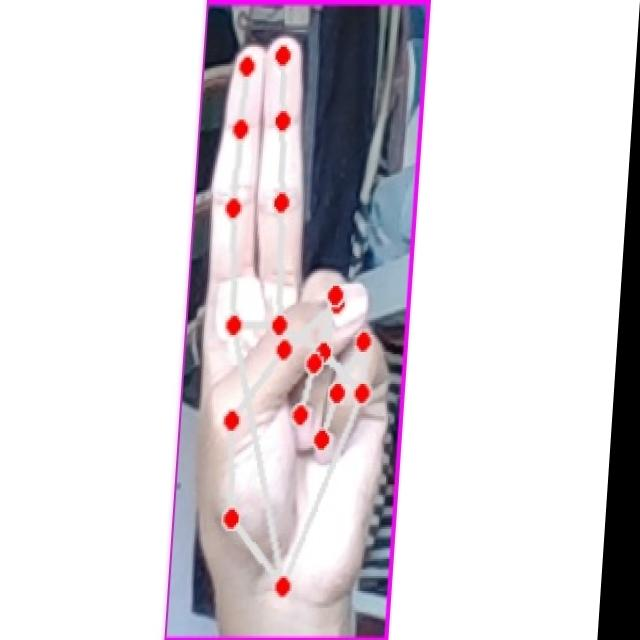U: (188, 33, 416, 614)
